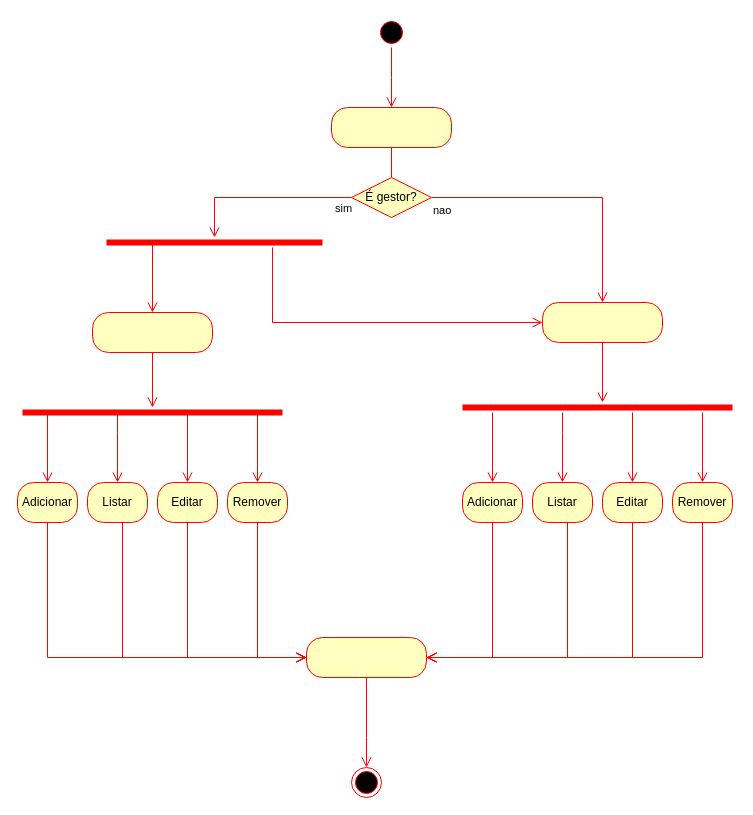
This 753x815 diagram has some shape labels left out. The shapes that lost their labels are listed below. From the top down, each one's centre as x and y in pixels, then its label:
At [391,127]: "Fazer login".
At [152,332]: "Meio de Transporte".
At [602,322]: "Motoristas".
At [366,657]: "Sair".
